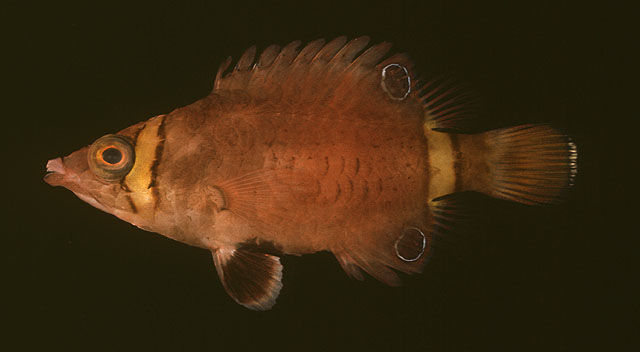fish: (44, 36, 578, 312)
